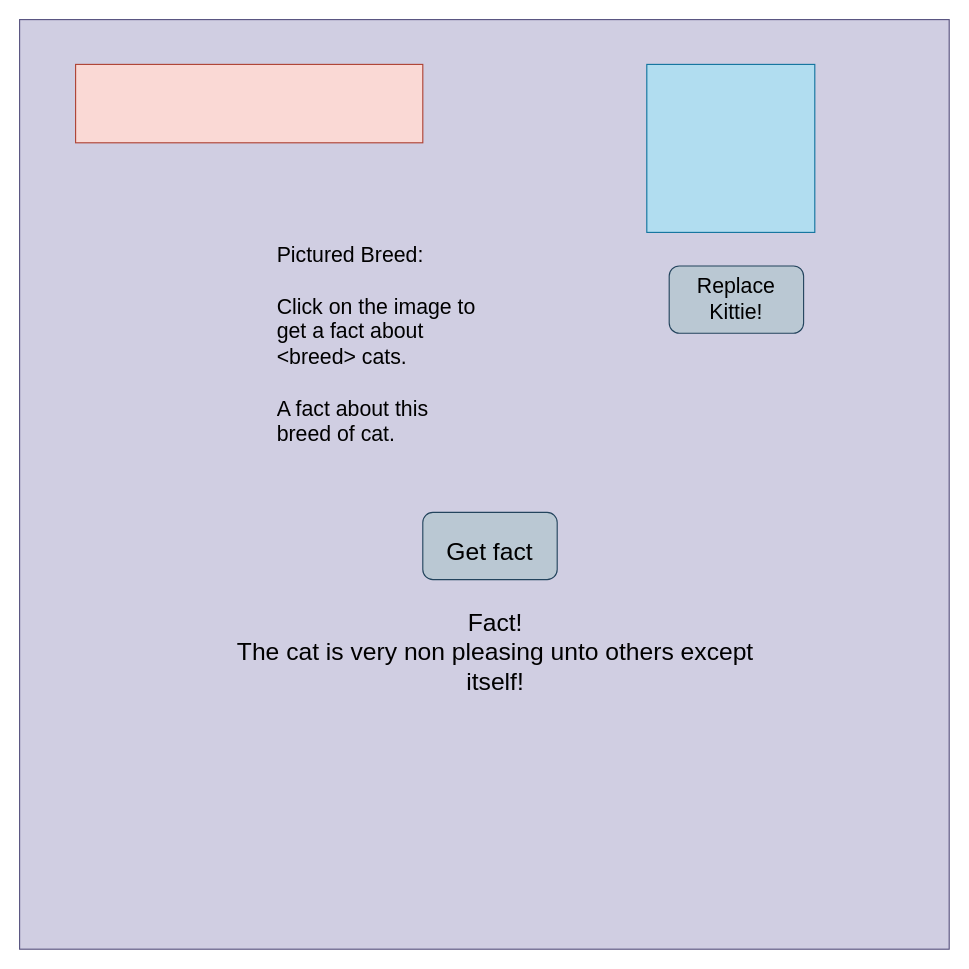
This 969x969 diagram has some shape labels left out. The shapes that lost their labels are listed below. From the top down, each one's box as (x1, y1, x2, y2) in pixels, then its label:
(74, 63, 423, 143): Kittie facts!
(646, 63, 815, 232): img
